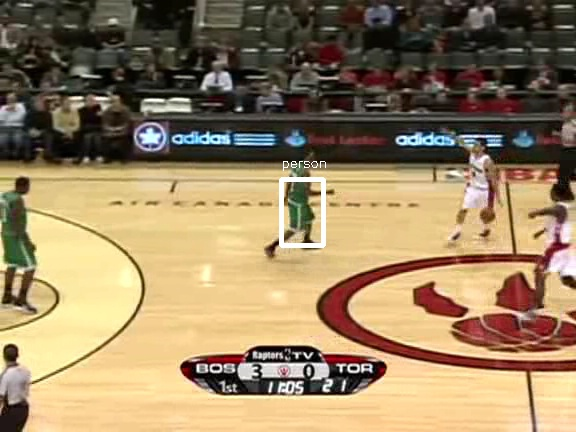person: (283, 159, 317, 240), (282, 159, 316, 240), (284, 159, 318, 240), (283, 158, 317, 239), (283, 160, 317, 241)
target_negative: (194, 301, 401, 430), (33, 291, 525, 333), (518, 235, 573, 384), (544, 385, 564, 416), (45, 382, 67, 406)
